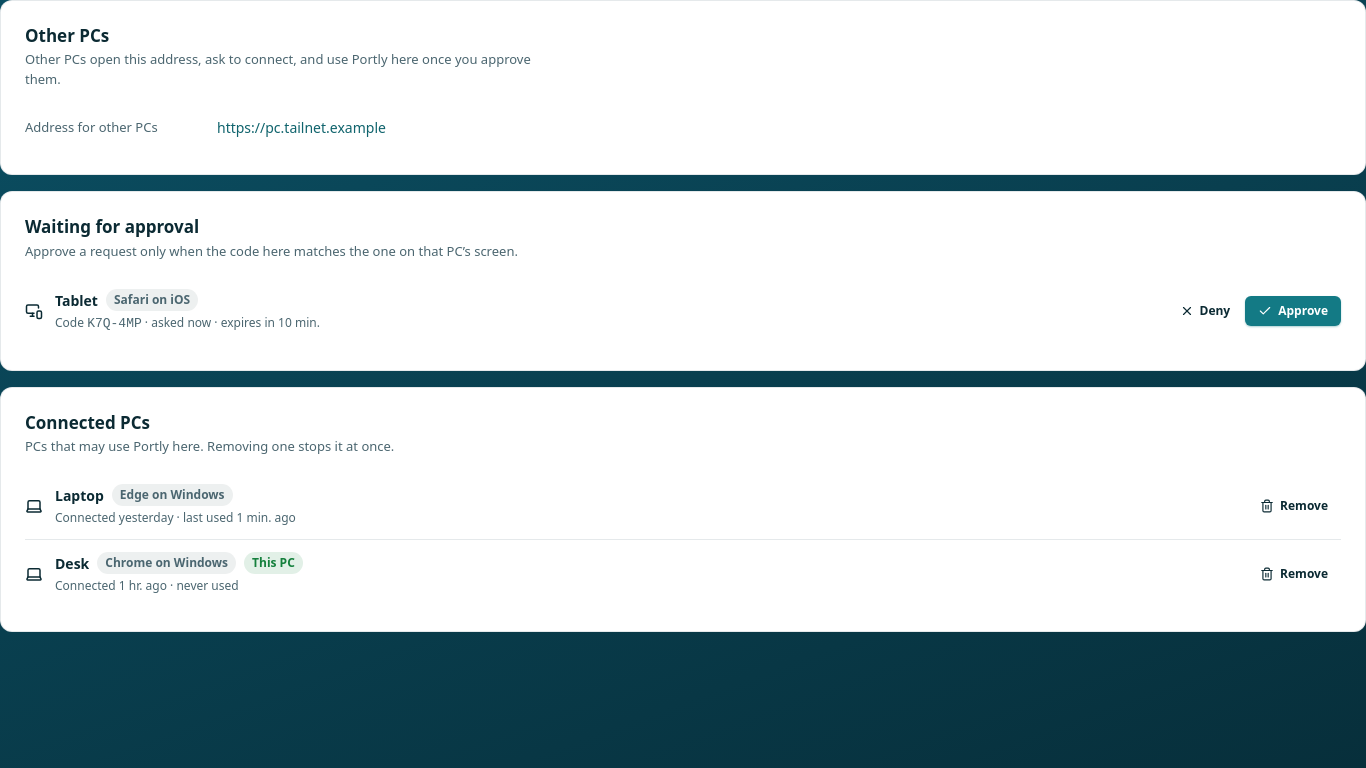
Scenario: Devices settings › lists the address, the request with its code and the connected PCs; approves a request
Expected: the link "https://pc.tailnet.example" is shown, [217,117,386,138]
Expected: the text "Tablet" is shown, [55,290,98,310]
Step 1. Click the button with aria-label "Approve Tablet" → click(1293, 311), box [1245,296,1341,326]
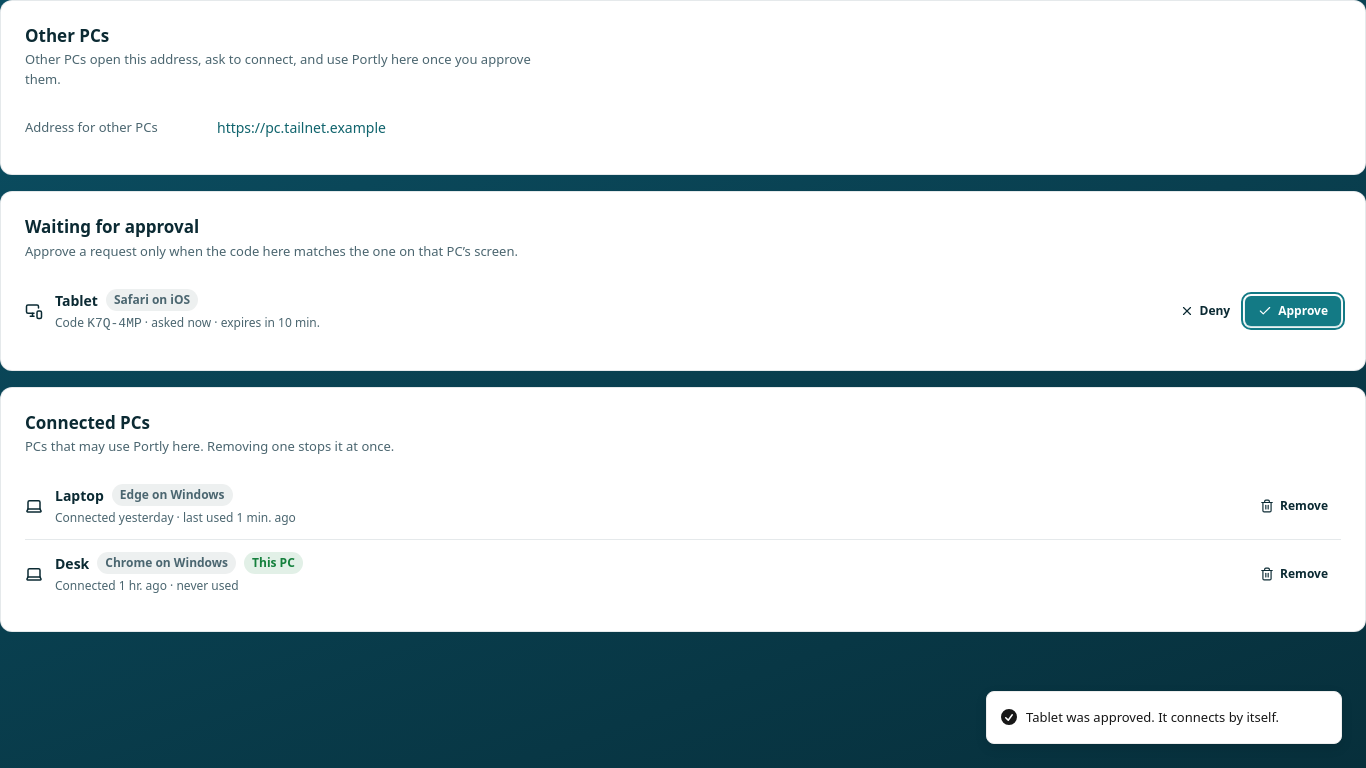
Expected: the text "Tablet was approved. It connects by itself." is shown, [1026,708,1279,727]
